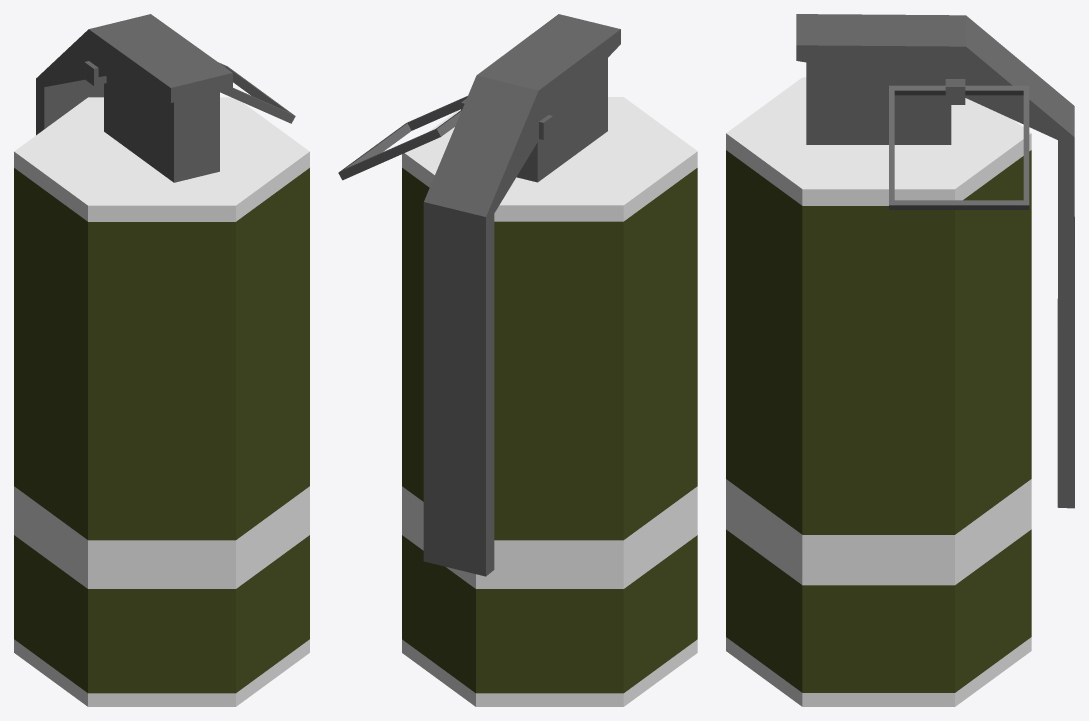
Rendered from Grenade_Smoke.fbx.
3 views of the same model, side by side, from view 1: azimuth 30°, elevation 25°; view 2: azimuth 150°, elevation 25°; view 3: azimuth 270°, elevation 25° (orthographic). The views are drawn at different scales.
Parts seen in each view (by area): view 1: Grenade_Smoke; view 2: Grenade_Smoke; view 3: Grenade_Smoke.
Boxes of the visible parts, x1,y1,x2,y2 form: Grenade_Smoke: (14, 14, 309, 706); Grenade_Smoke: (338, 14, 697, 706); Grenade_Smoke: (726, 14, 1074, 706).
Bounding box in the file's own units: 5.41 × 12.46 × 6.34.
